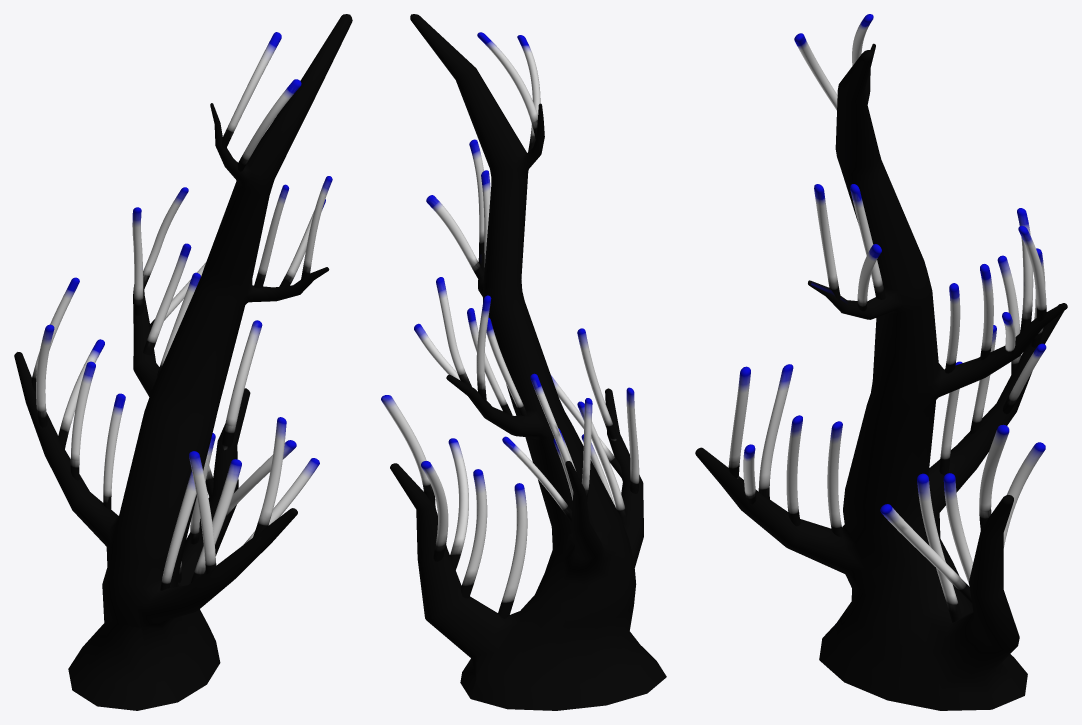
File: SM_Tree_03.FBX
The picture shows the model from 3 angles, left to right: view 1: azimuth 30°, elevation 25°; view 2: azimuth 150°, elevation 25°; view 3: azimuth 270°, elevation 25°; orthographic projection. The views are drawn at different scales.
Parts seen in each view (by area): view 1: arbre019; view 2: arbre019; view 3: arbre019.
Part boxes in pixels (x1=…): arbre019: x1=14, y1=14, x2=352, y2=710; arbre019: x1=381, y1=14, x2=666, y2=710; arbre019: x1=695, y1=14, x2=1067, y2=710.
Bounding box in the file's own units: 42.94 × 98.08 × 46.33.
